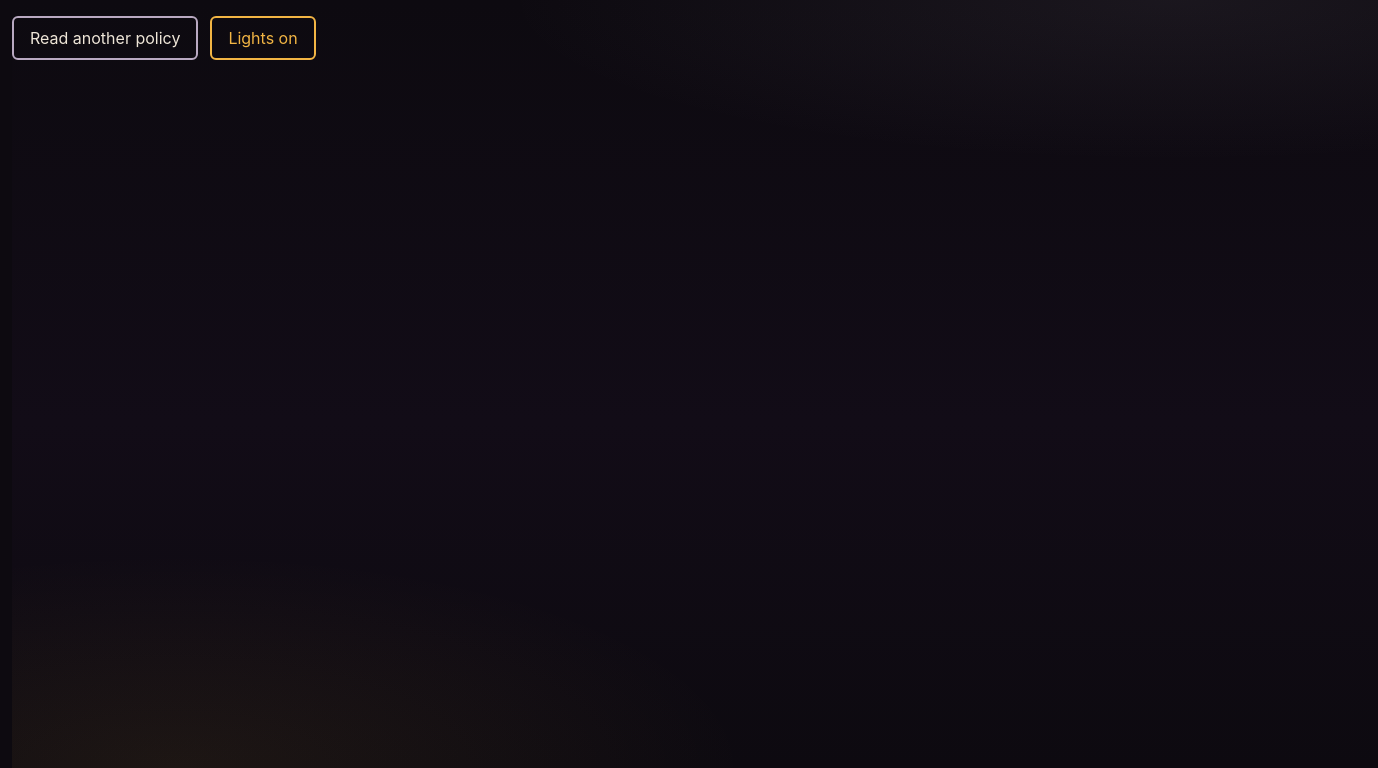
Test: Toolbar (R15.3, R17.4) › has a Lights on toggle second, with aria-pressed, and focus stays on it (R8.1, R8.5, R10.5)
Click the button "Lights on" at (263, 38), box [210,16,316,60]
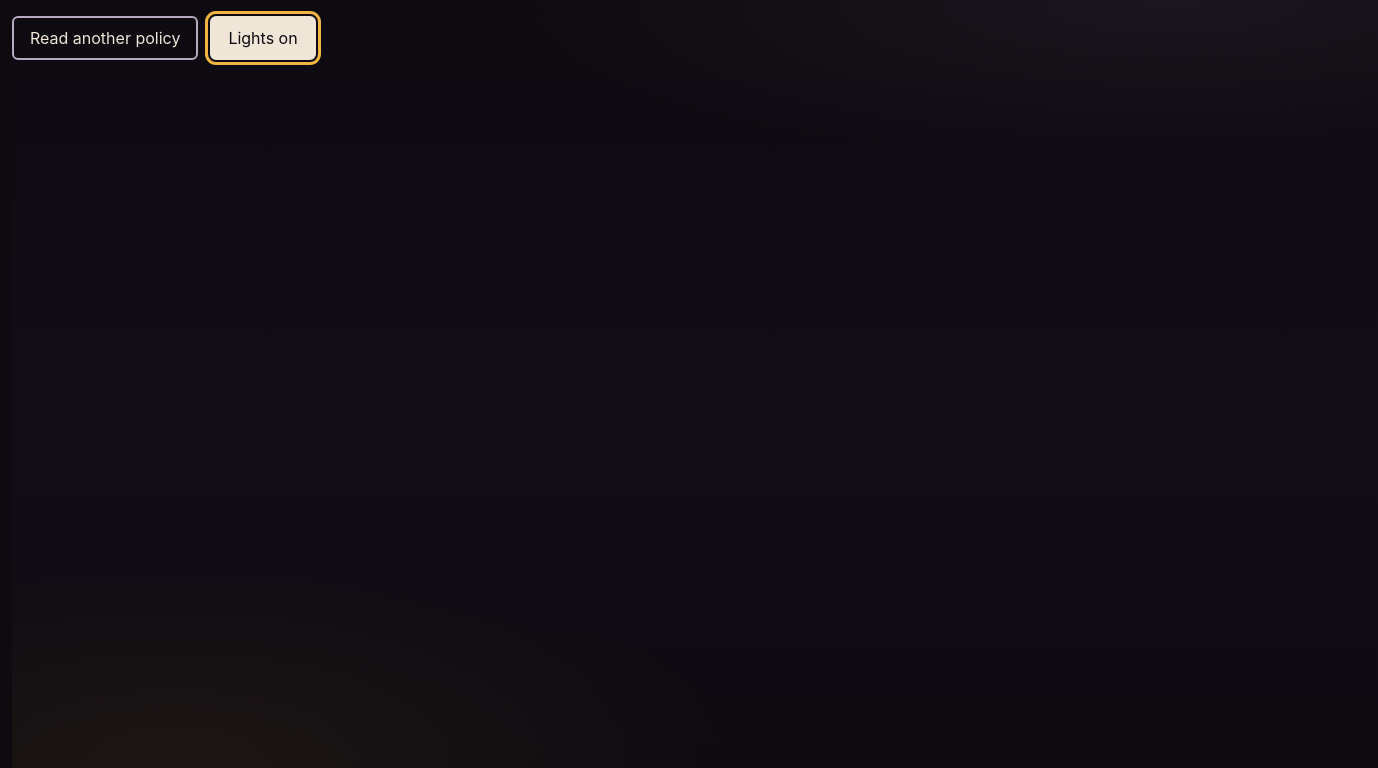
Result: the button "Lights on" is pressed at [210,16,316,60]
Press Enter
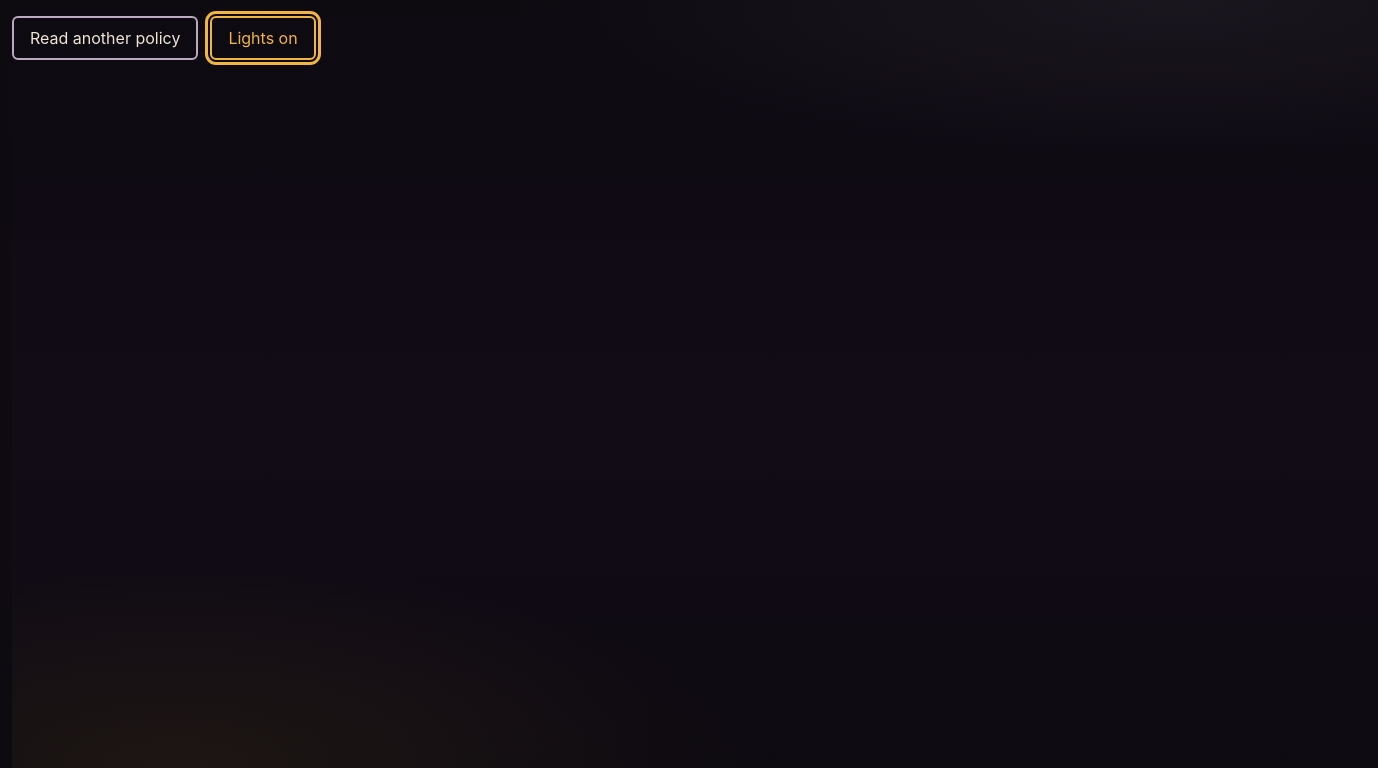
Result: the button "Lights on" is not pressed at [210,16,316,60]
